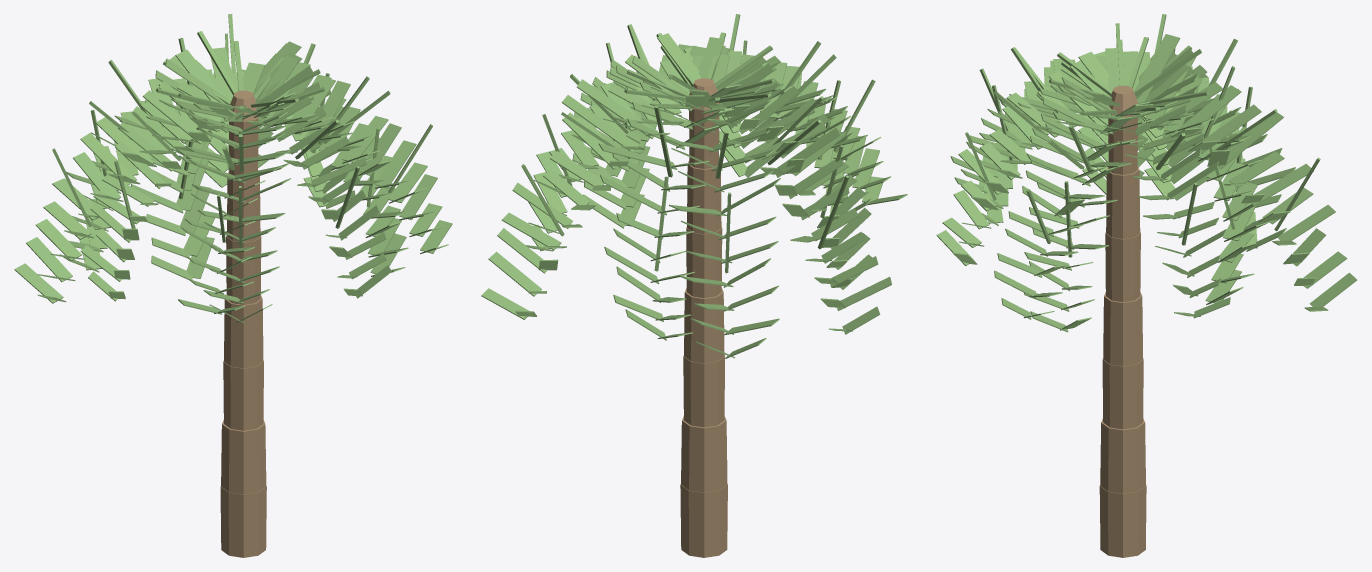
The model's file is palm_half.glb.
3 views of the same model, side by side, from view 1: azimuth 30°, elevation 25°; view 2: azimuth 150°, elevation 25°; view 3: azimuth 270°, elevation 25° (orthographic). The views are drawn at different scales.
Visible parts, largest first — view 1: botanical-glasshouse-and-palm-house-palm-medium; view 2: botanical-glasshouse-and-palm-house-palm-medium; view 3: botanical-glasshouse-and-palm-house-palm-medium.
Boxes of the visible parts, box(x1,y1,x2,y2) form: botanical-glasshouse-and-palm-house-palm-medium: box(14, 14, 452, 557); botanical-glasshouse-and-palm-house-palm-medium: box(481, 14, 907, 557); botanical-glasshouse-and-palm-house-palm-medium: box(936, 14, 1357, 557).
Bounding box in the file's own units: 3.13 × 4.04 × 3.11.
